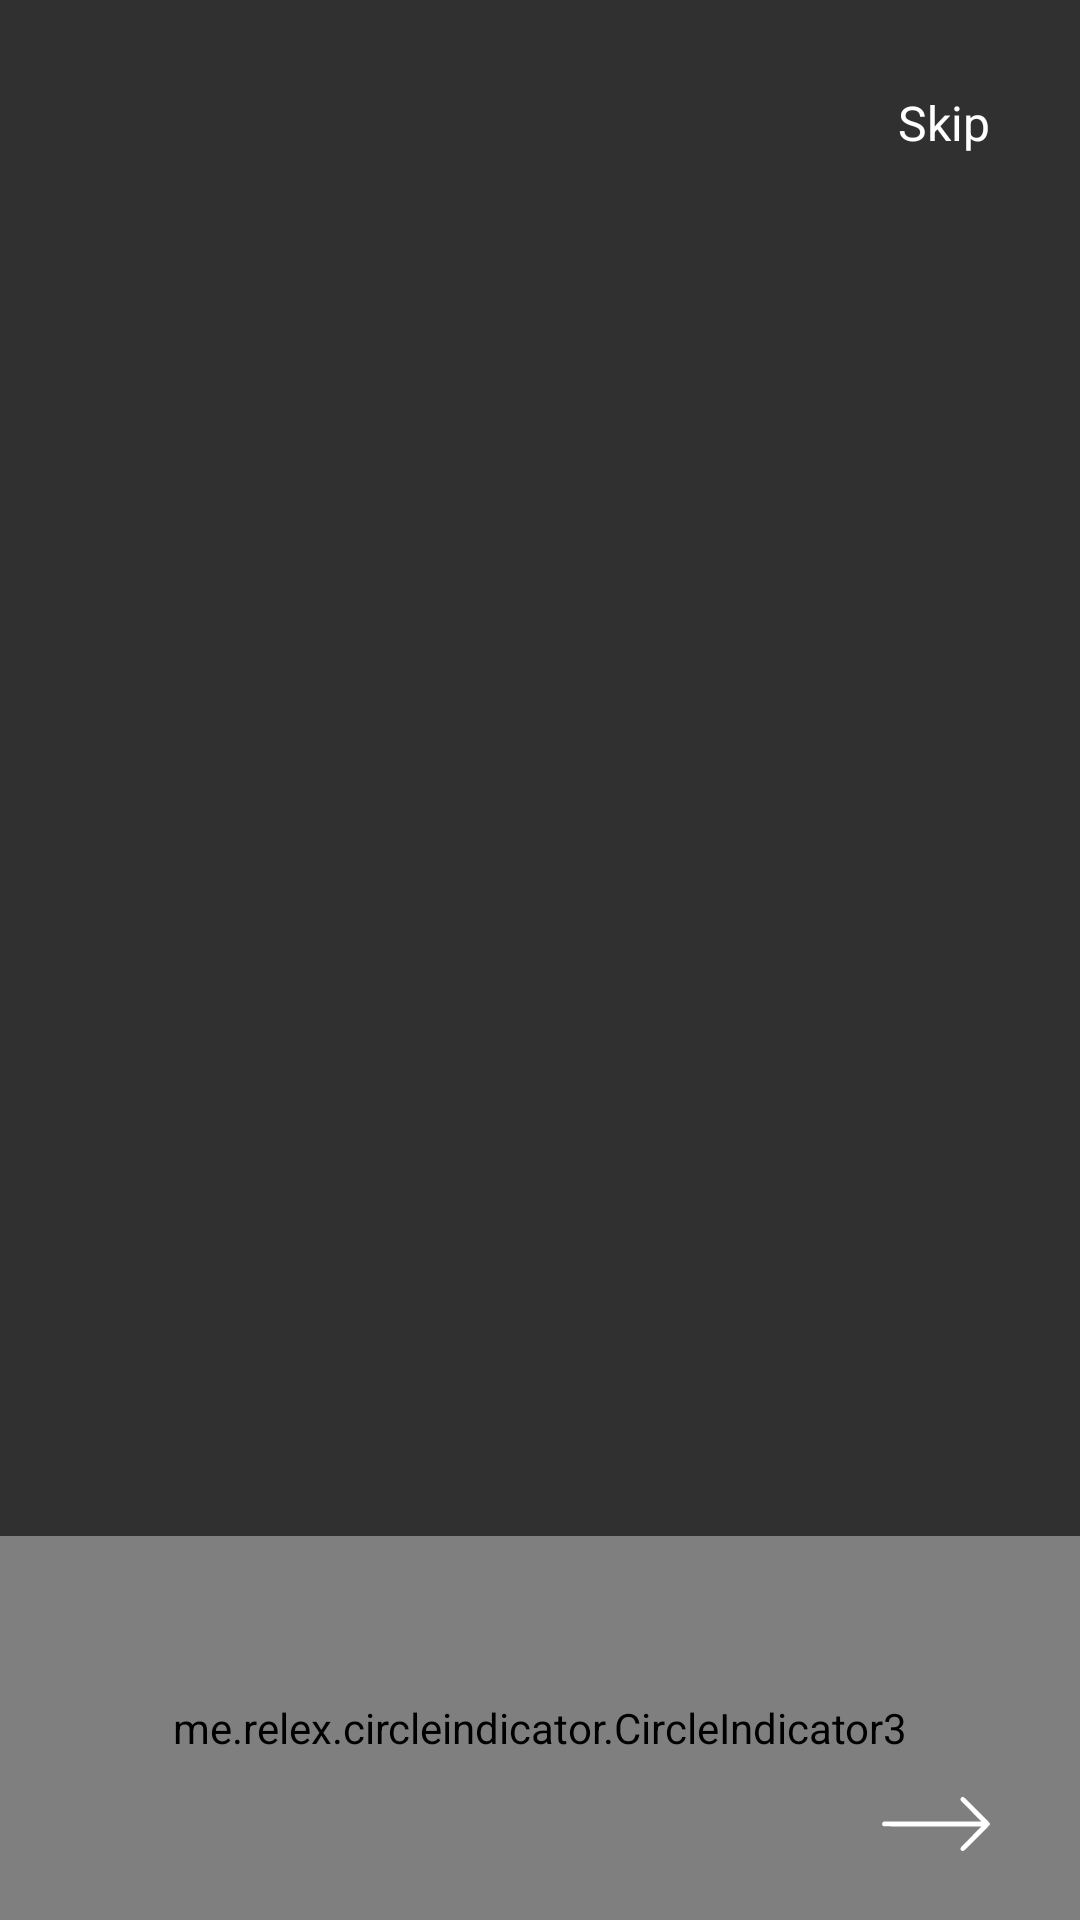

Named icons in this screenshot (1080*1920) and their bounding boxes, (left=x1, top=y1, right=x2, bottom=y2):
right arrow: (left=882, top=1797, right=990, bottom=1851)
